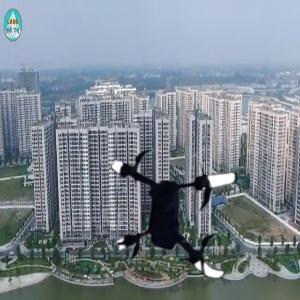drone: (100, 131, 263, 294)
